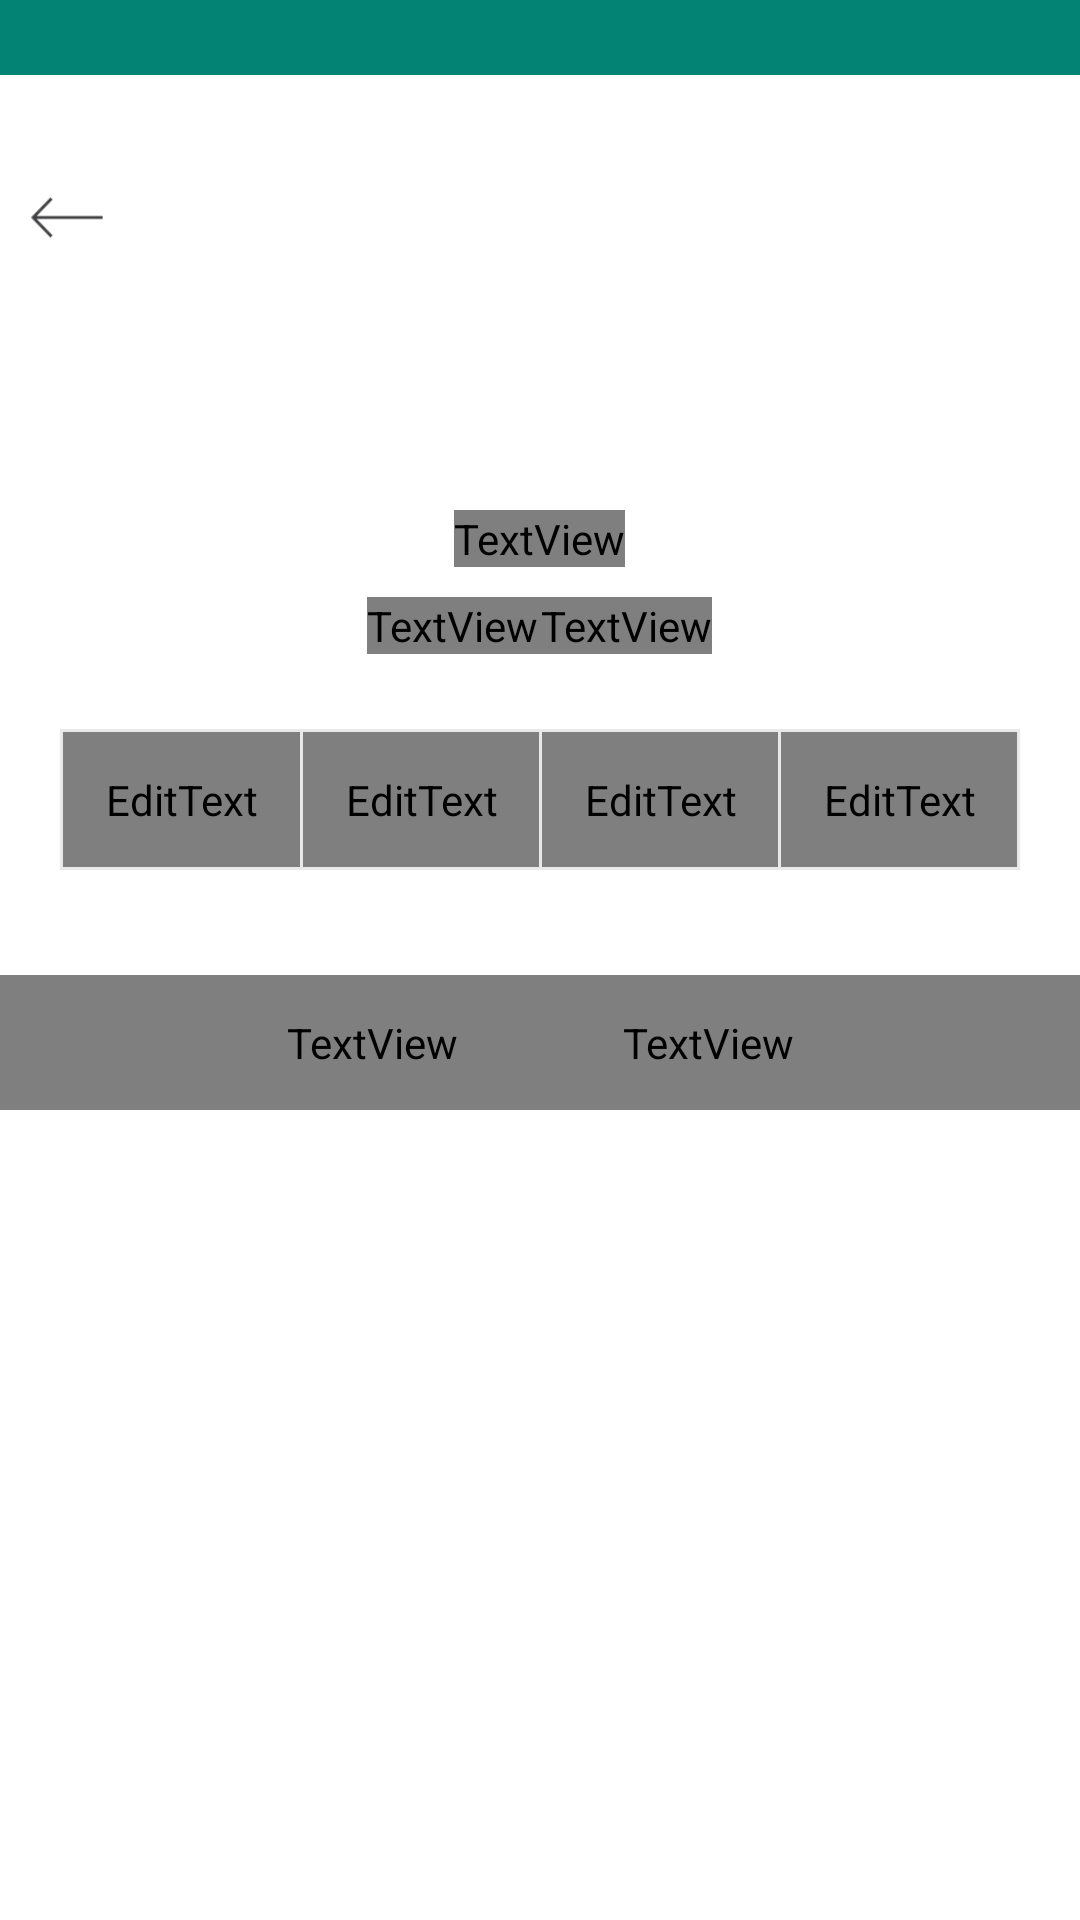

Named icons in this screenshot (1080px×1920px) and their centers, point (x, y):
back: point (67, 217)
